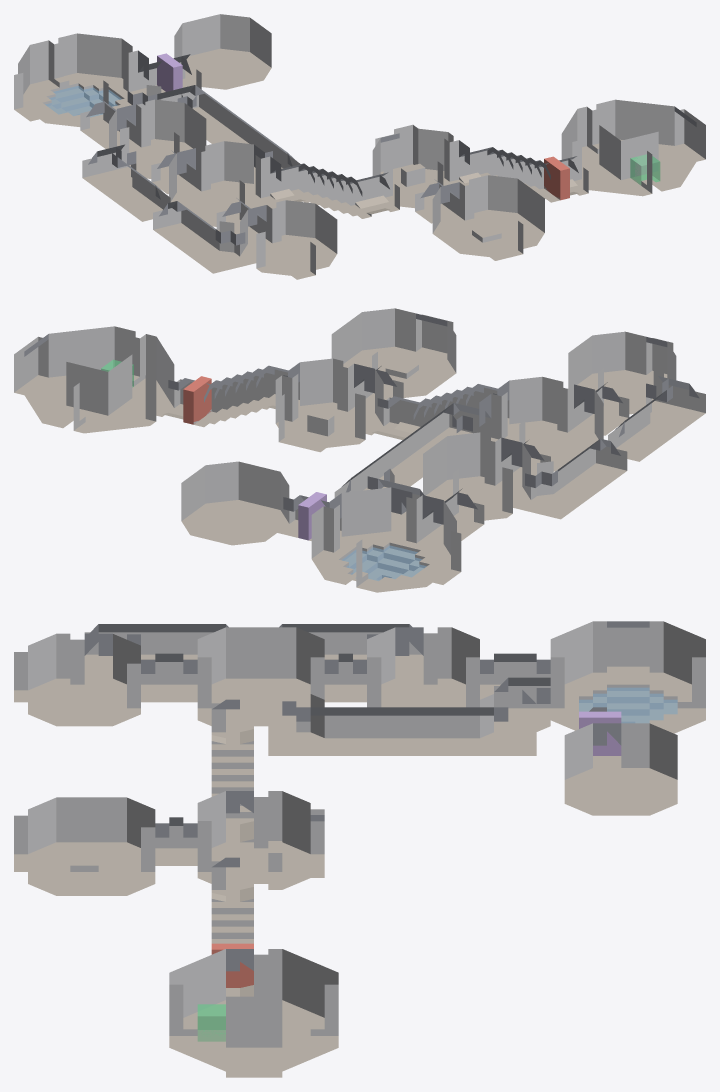
Rendered from station_4_line_mining.glb.
3 renders of one model, top to bottom at view 1: azimuth 30°, elevation 25°; view 2: azimuth 150°, elevation 25°; view 3: azimuth 270°, elevation 25°, orthographic. The views are drawn at different scales.
Parts seen in each view (by area): view 1: corridor:7, room:2, room:3, room:5, room:7, room:0, room:6, corridor:0, room:4, room:1, corridor:8, corridor:1 (+20 smaller); view 2: room:2, corridor:7, room:5, room:7, room:3, room:1, room:0, room:4, room:6, corridor:8, corridor:1, corridor:0 (+21 smaller); view 3: corridor:8, room:2, room:3, room:0, room:7, room:5, room:6, room:1, corridor:7, room:4, corridor:0, corridor:1 (+19 smaller).
Part boxes in pixels (x1,y1,x2,y2): corridor:7: [82, 144, 250, 273]; room:2: [561, 99, 696, 196]; room:3: [432, 175, 544, 256]; room:5: [18, 33, 148, 128]; room:7: [174, 14, 271, 89]; room:0: [169, 141, 281, 226]; room:6: [240, 200, 337, 275]; corridor:0: [270, 163, 399, 218]; room:4: [109, 99, 206, 179]; room:1: [372, 124, 469, 209]; corridor:8: [127, 85, 300, 184]; corridor:1: [459, 147, 588, 202]; room:2: [24, 326, 174, 433]; corridor:7: [519, 376, 705, 519]; room:5: [311, 487, 456, 592]; room:7: [181, 461, 289, 545]; room:3: [331, 308, 456, 397]; room:1: [275, 358, 383, 447]; room:0: [479, 376, 603, 472]; room:4: [423, 432, 530, 521]; room:6: [568, 331, 676, 415]; corridor:8: [334, 403, 491, 534]; corridor:1: [163, 365, 299, 427]; corridor:0: [372, 384, 509, 439]; corridor:8: [268, 677, 550, 755]; room:2: [169, 949, 338, 1071]; room:3: [28, 797, 155, 895]; room:0: [197, 627, 324, 732]; room:7: [564, 723, 677, 815]; room:5: [550, 621, 705, 733]; room:6: [28, 633, 140, 726]; room:1: [197, 791, 324, 889]; corridor:7: [84, 624, 423, 678]; room:4: [367, 627, 479, 707]; corridor:0: [211, 699, 253, 842]; corridor:1: [211, 857, 253, 996].
Bounding box in the file's own units: 58 × 10 × 49.
